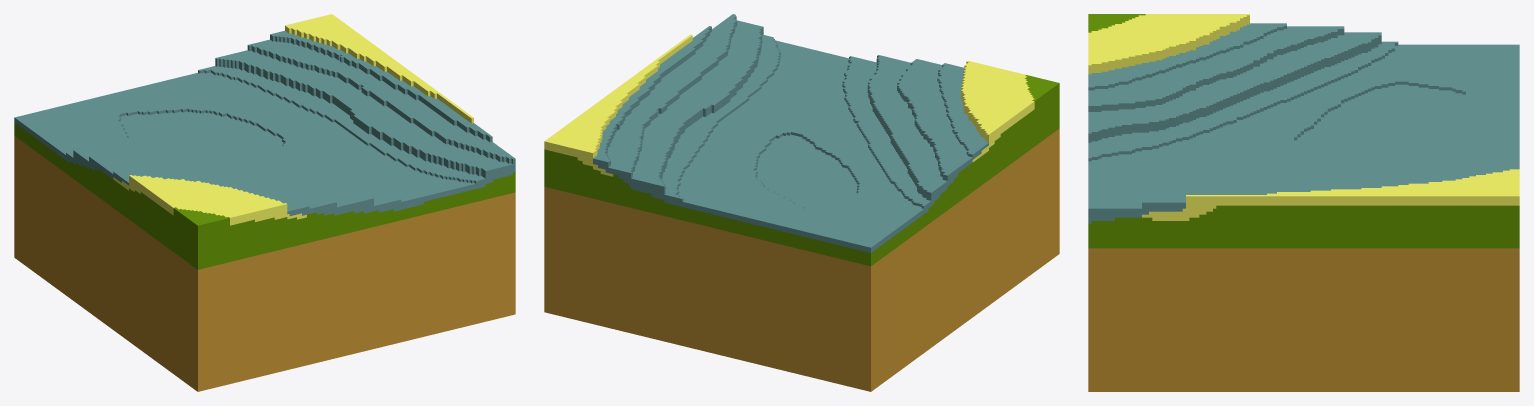
3 renders of one model, left to right at view 1: azimuth 30°, elevation 25°; view 2: azimuth 150°, elevation 25°; view 3: azimuth 270°, elevation 25°, orthographic. The views are drawn at different scales.
Visible parts, largest first — view 1: 13L; view 2: 13L; view 3: 13L.
Boxes of the visible parts, x1,y1,x2,y2 form: 13L: (14,14,515,391); 13L: (544,14,1059,391); 13L: (1088,14,1519,391).
Bounding box in the file's own units: 12.8 × 6.4 × 12.8.
1 material, 1 textured.
